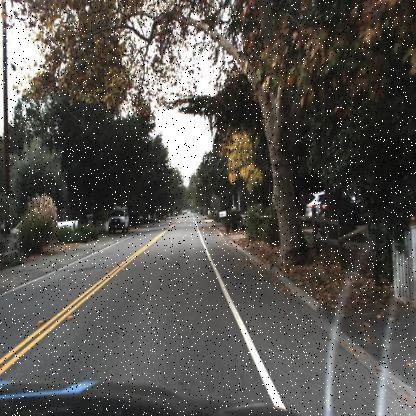car: (319, 184, 368, 230), (303, 188, 327, 224), (106, 201, 128, 235), (56, 213, 84, 236), (318, 192, 338, 224), (53, 212, 80, 232)
